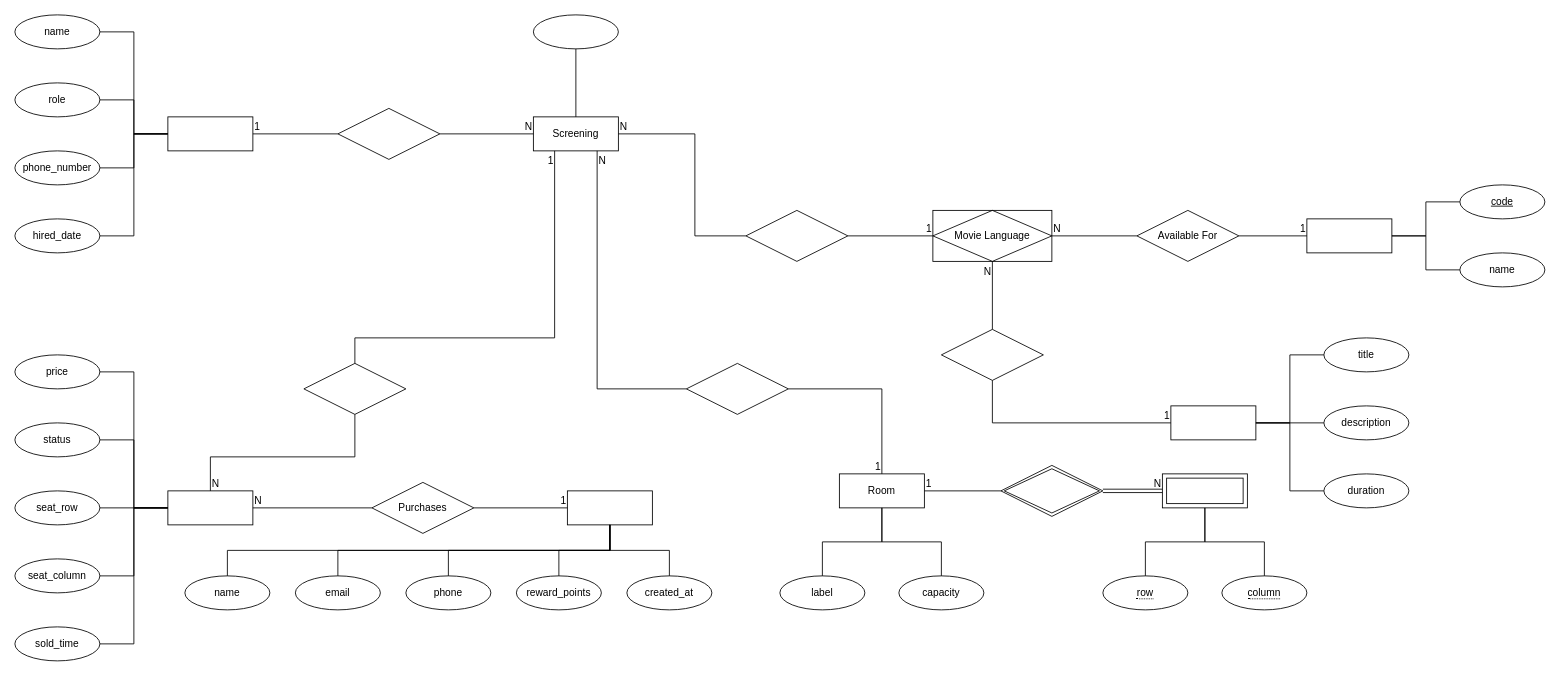
Some shapes in this 1560 by 676 pixel diagram are drawn without their labels. The shapes that lost their labels are listed below. From the top down, each one's centre as x and y in pixels, then its label:
At (x=575, y=31): "start_time".
At (x=210, y=133): "Employee".
At (x=388, y=133): "Assigned".
At (x=796, y=235): "Used By".
At (x=1349, y=235): "Language".
At (x=992, y=354): "Available In".
At (x=354, y=388): "Has".
At (x=737, y=388): "Hosts".
At (x=1213, y=422): "Movie".
At (x=210, y=507): "Ticket".
At (x=609, y=507): "Customer".
At (x=1051, y=490): "Contains".
At (x=1204, y=490): "Seat".
